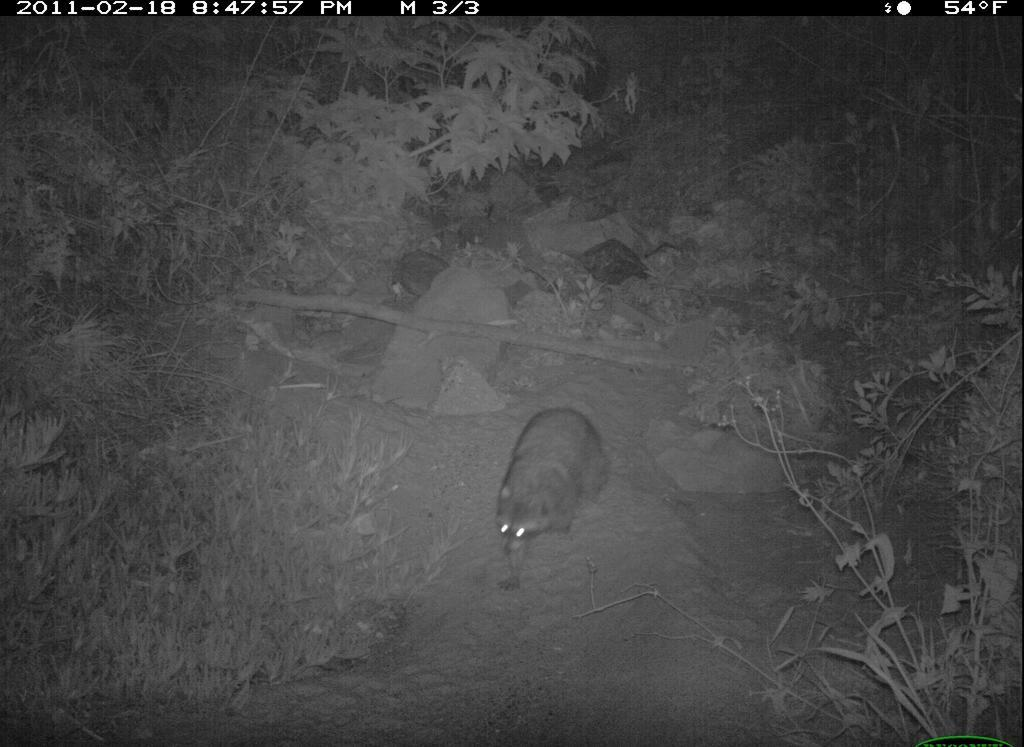raccoon: (489, 402, 624, 602)
